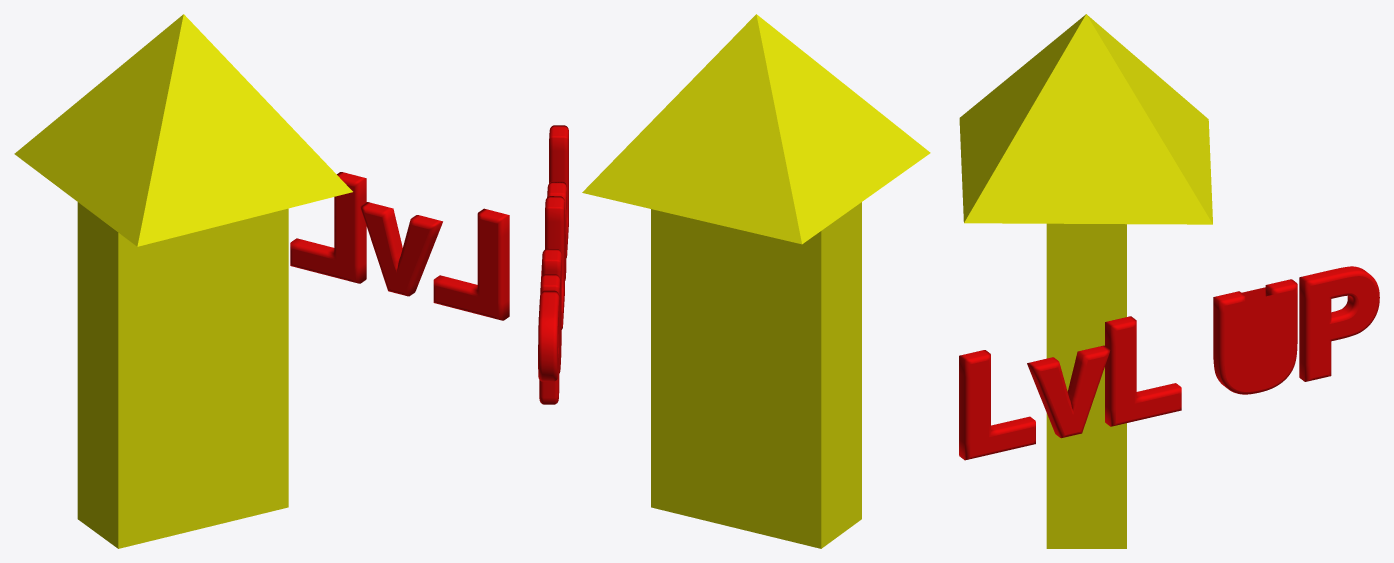
The model's file is experience_rename_texture.fbx.
3 renders of one model, left to right at view 1: azimuth 30°, elevation 25°; view 2: azimuth 150°, elevation 25°; view 3: azimuth 270°, elevation 25°, orthographic.
Parts seen in each view (by area): view 1: polySurface3; view 2: polySurface3; view 3: polySurface3.
Boxes of the visible parts, bbox=[...] form: polySurface3: bbox=[14, 14, 509, 548]; polySurface3: bbox=[538, 14, 930, 548]; polySurface3: bbox=[959, 14, 1379, 548].
Size of the model in its own units: 1.28 by 1.62 by 1.25.
